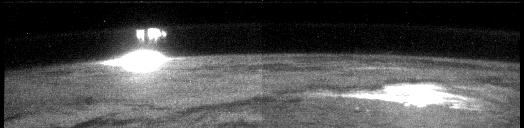positive: (132, 26, 170, 46)
